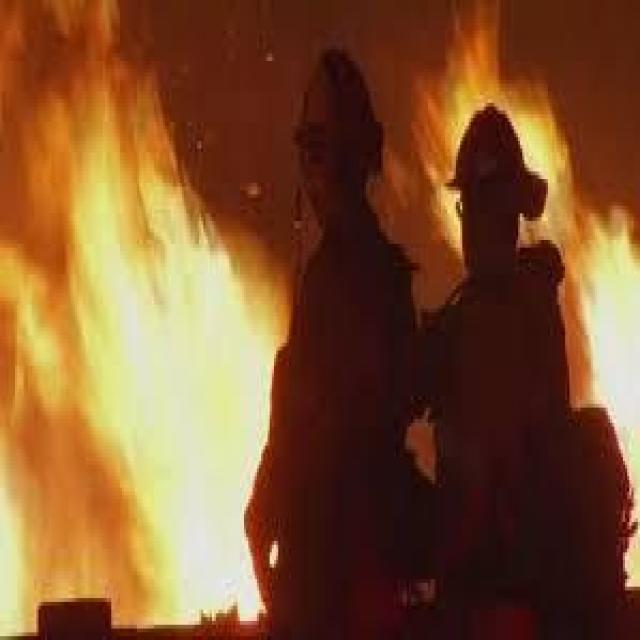Fire: (0, 0, 253, 598), (418, 12, 568, 224), (575, 130, 640, 415)
